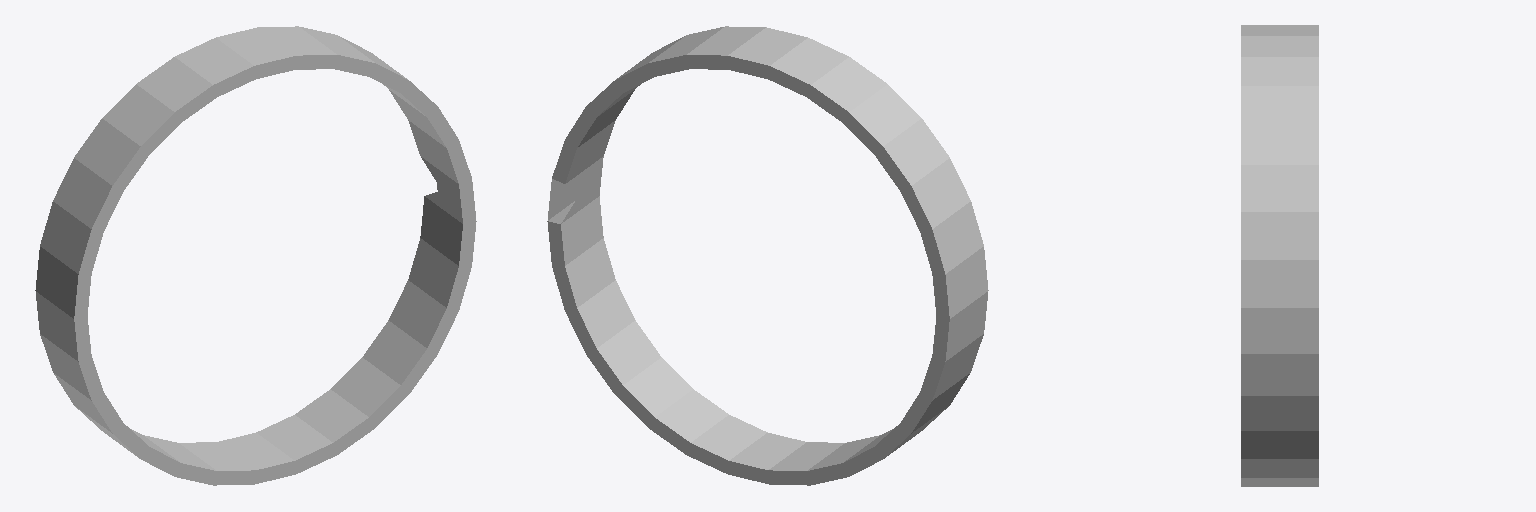
File: utahtest.obj
The picture shows the model from 3 angles: view 1: azimuth 30°, elevation 25°; view 2: azimuth 150°, elevation 25°; view 3: azimuth 270°, elevation 25°; orthographic projection.
Parts seen in each view (by area): view 1: test; view 2: test; view 3: test.
Part boxes in pixels (bbox=[...]): test: bbox=[35, 26, 476, 485]; test: bbox=[547, 26, 988, 485]; test: bbox=[1241, 25, 1318, 486].
Size of the model in its own units: 60 by 59.67 by 10.